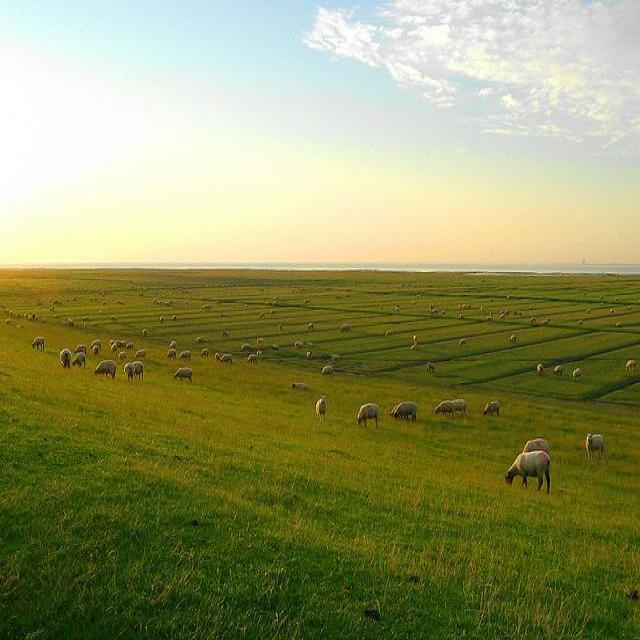Sheep: (1, 271, 639, 395), (507, 441, 551, 498)
